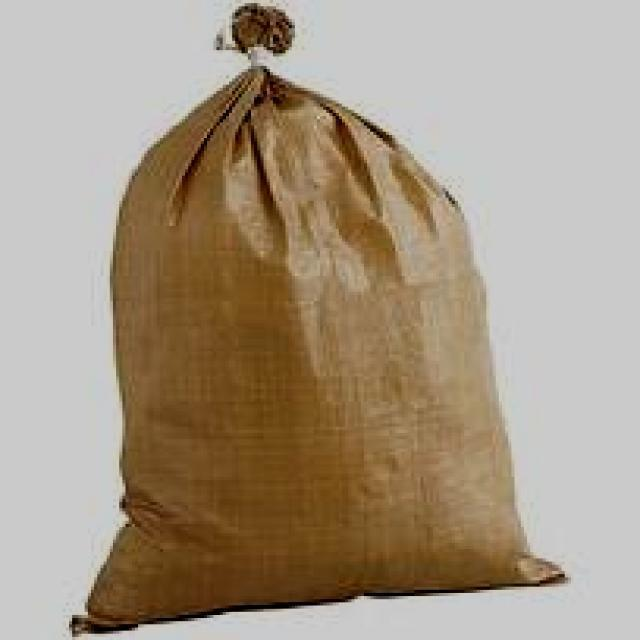gunny_bag: (60, 3, 577, 634)
